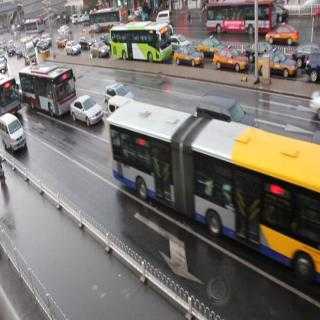BigCar: (109, 108, 320, 268), (108, 20, 170, 65), (20, 65, 74, 113), (204, 0, 271, 36)
Car: (260, 50, 296, 80), (1, 114, 26, 152), (72, 97, 102, 126), (266, 21, 297, 44), (217, 47, 243, 71), (199, 31, 223, 53), (105, 85, 131, 103), (177, 44, 201, 63), (88, 38, 107, 58), (66, 40, 82, 55)
